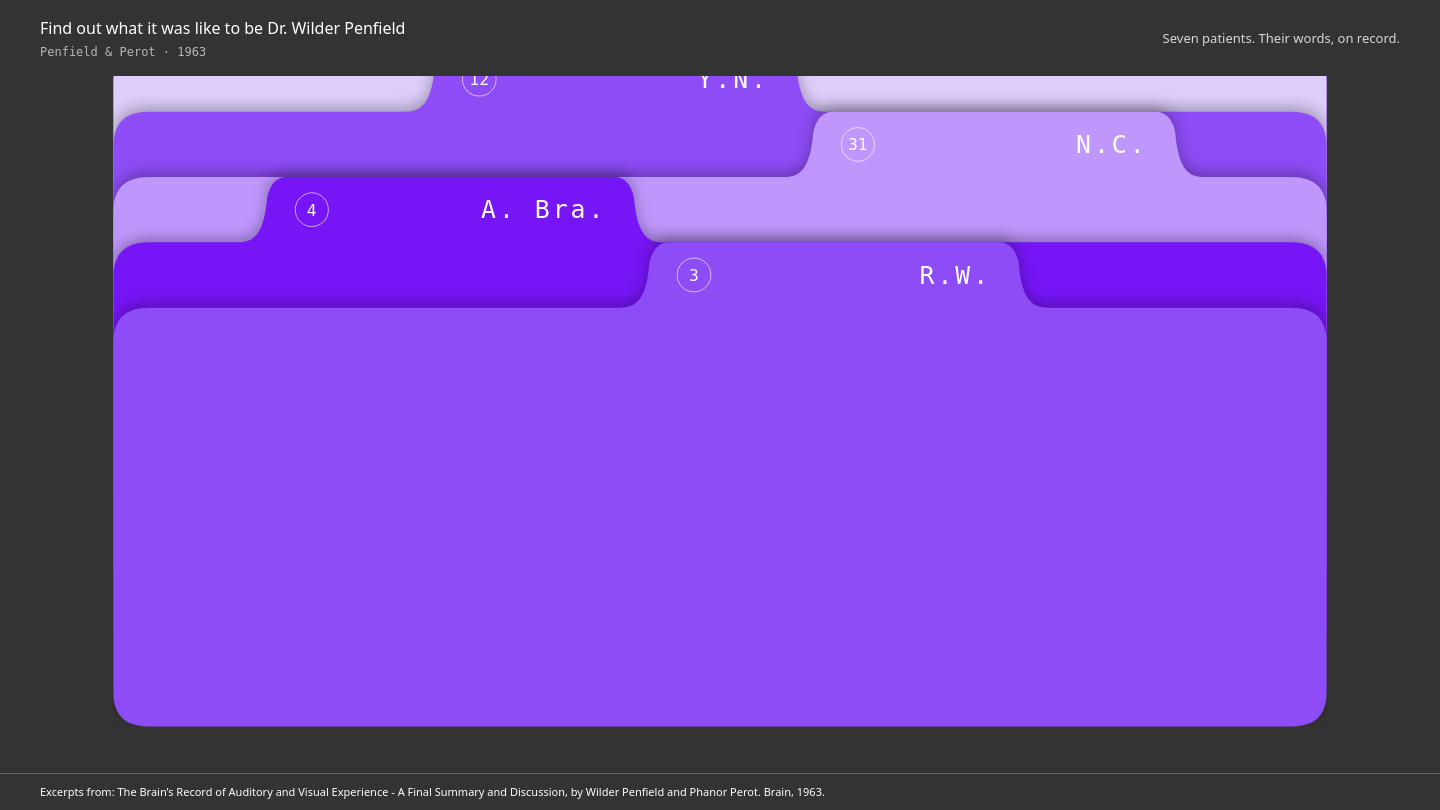
Scenario: restored desktop folder storyboard › settles into readable mobile panes when the viewport changes mid-open
This screenshot has width=1440, height=810.
(page scrolled)
Click the button "3 R.W.": coordinates (720, 485) [113,242,1327,727]
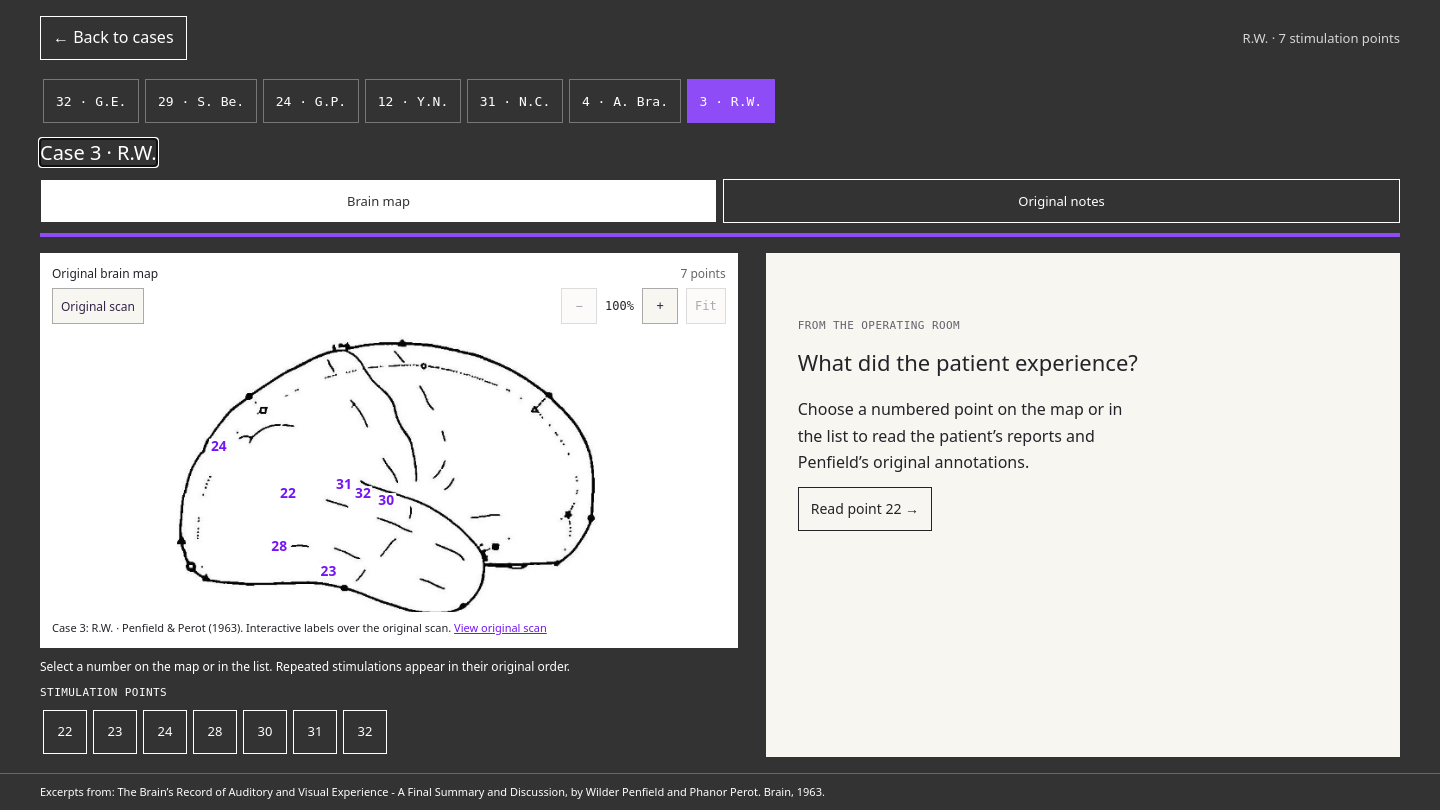
Click the button "24" below "Original brain map": coordinates (219, 446) [208,437,229,455]
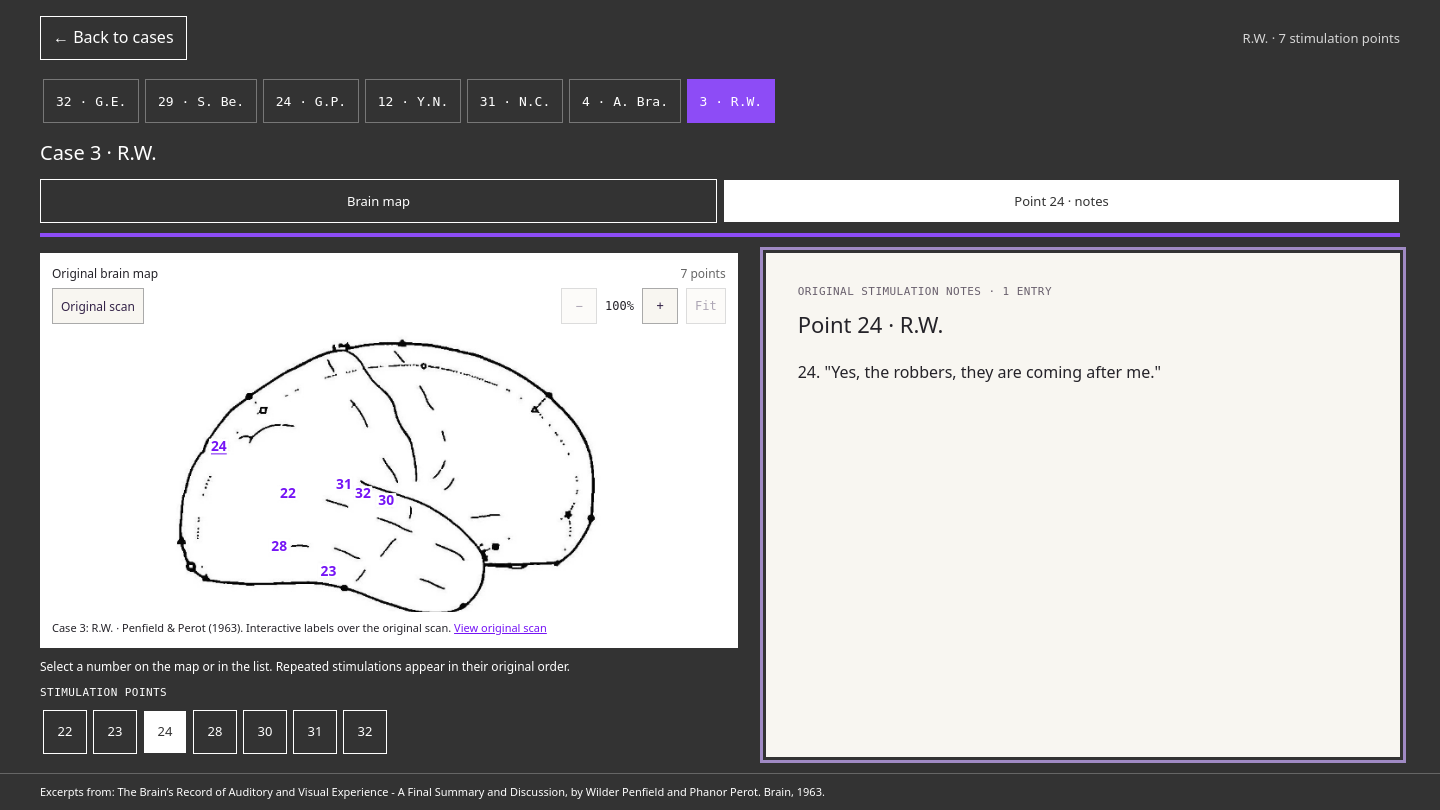
Check: the element with class "transcript" shows "robbers", box [798,361,1165,383]
Click the button with class "back-button": coordinates (113, 38) [40,16,186,60]
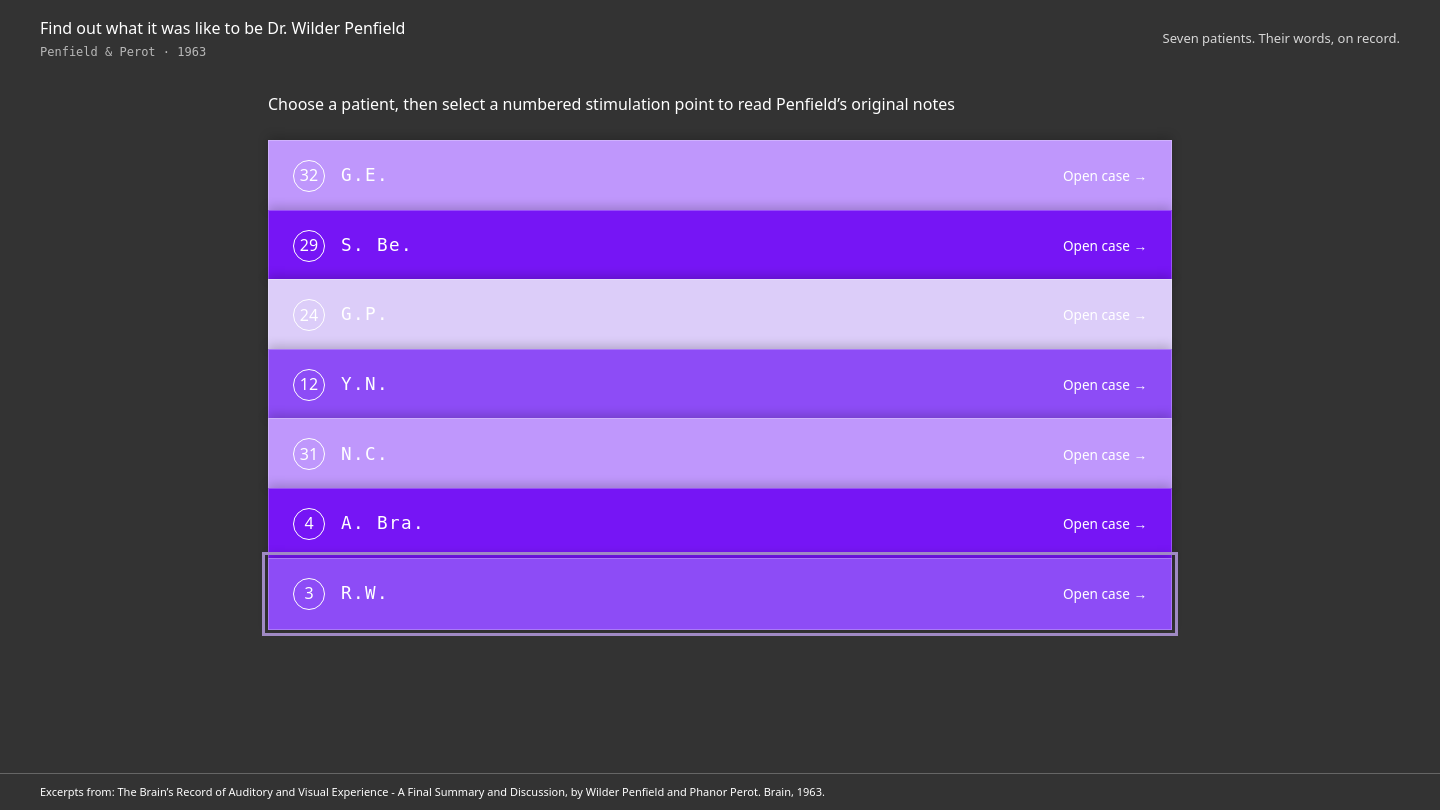
Check: the number of buttons with class "folder" is 7
